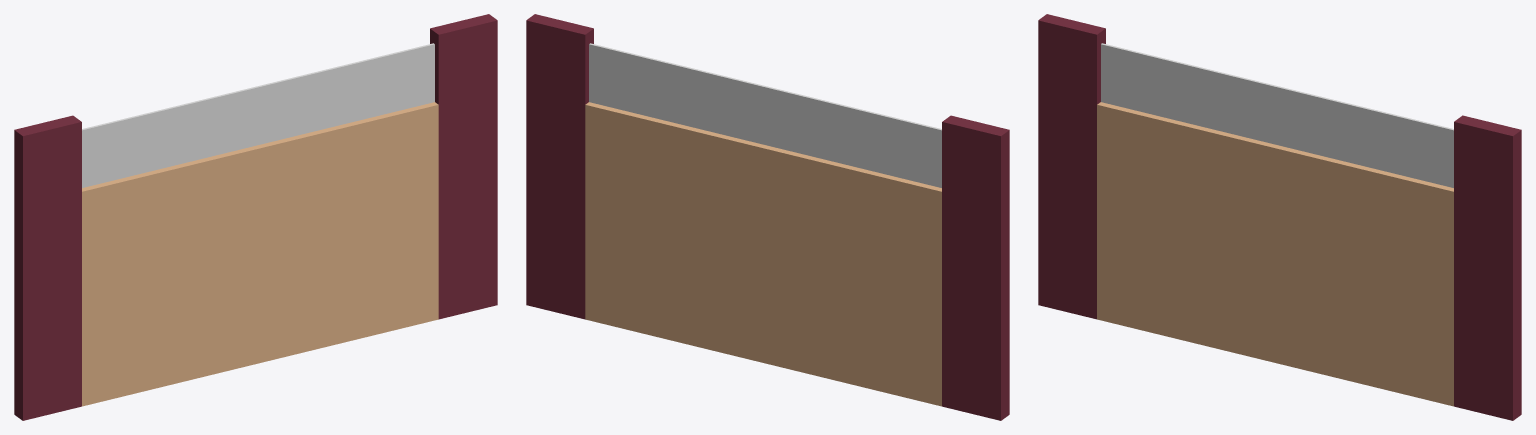
Rendered from Wall_Partition.fbx.
The picture shows the model from 3 angles, left to right: view 1: azimuth 30°, elevation 25°; view 2: azimuth 150°, elevation 25°; view 3: azimuth 330°, elevation 25°; orthographic projection.
Visible parts, largest first — view 1: Wall_Partition; view 2: Wall_Partition; view 3: Wall_Partition.
Boxes of the visible parts, x1,y1,x2,y2 form: Wall_Partition: (14, 14, 497, 420); Wall_Partition: (526, 14, 1009, 420); Wall_Partition: (1038, 14, 1521, 420).
Size of the model in its own units: 1600 by 917 by 51.08.
